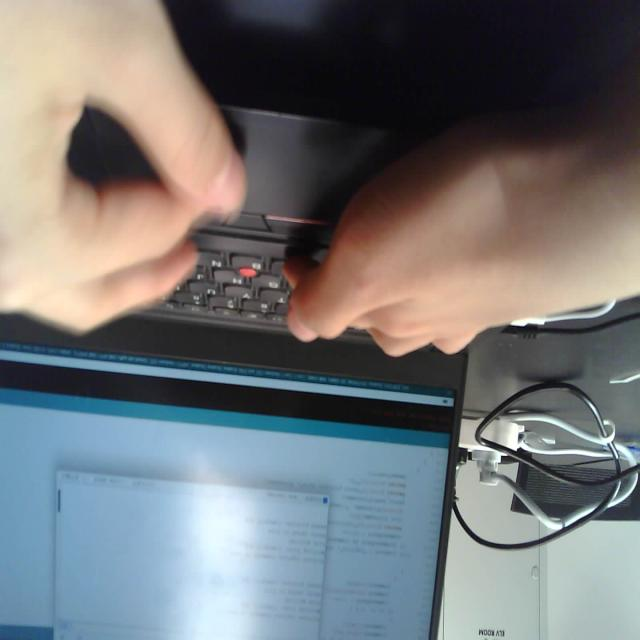keyboard-with-hands: (0, 55, 476, 356)
